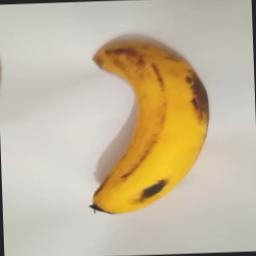Banana Unripe: (82, 31, 217, 220)
